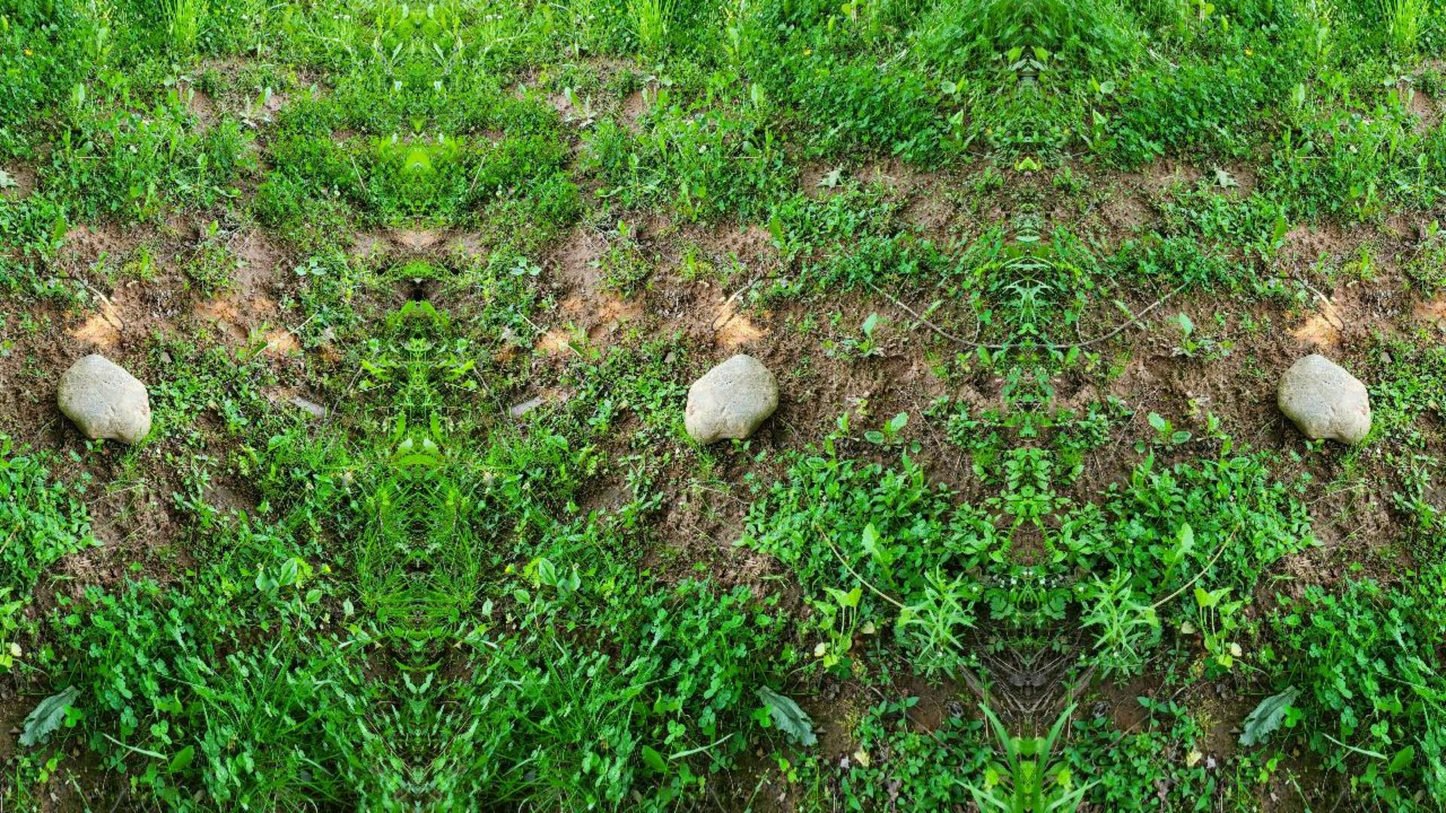rock: (1278, 355, 1370, 444), (58, 355, 149, 444), (685, 355, 777, 443)
